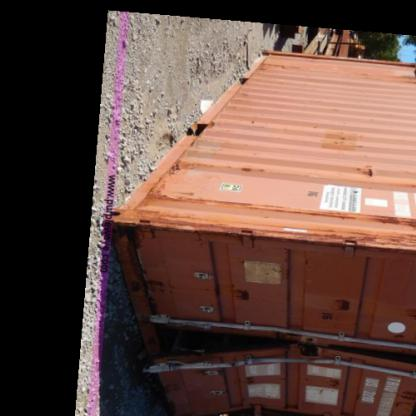Damage: (154, 313, 356, 399), (126, 160, 190, 246), (306, 207, 415, 252), (224, 162, 292, 183), (256, 51, 297, 80), (354, 152, 390, 176), (321, 128, 356, 152), (327, 298, 359, 314), (232, 280, 258, 297)
